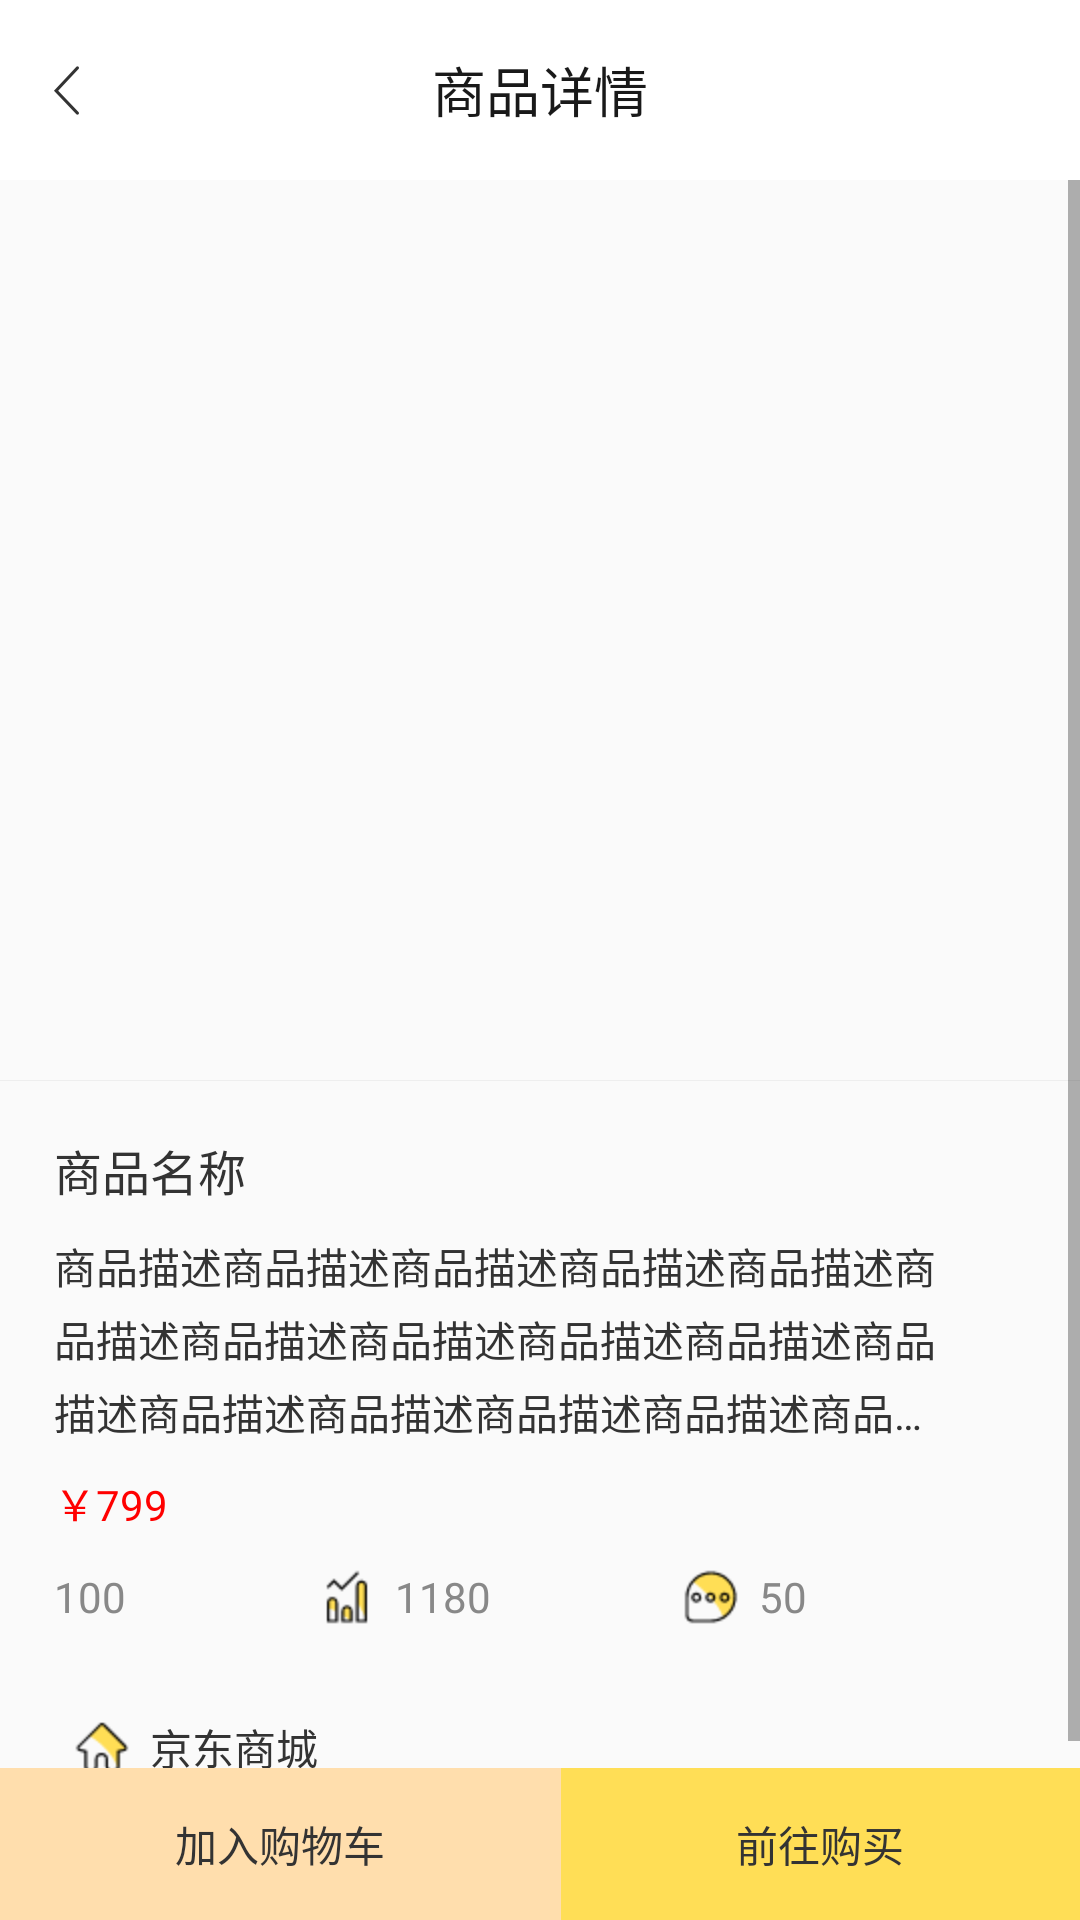

Icon click points for this 1080×1920 phone screenshot, format [x,y]:
back: [66,90]
